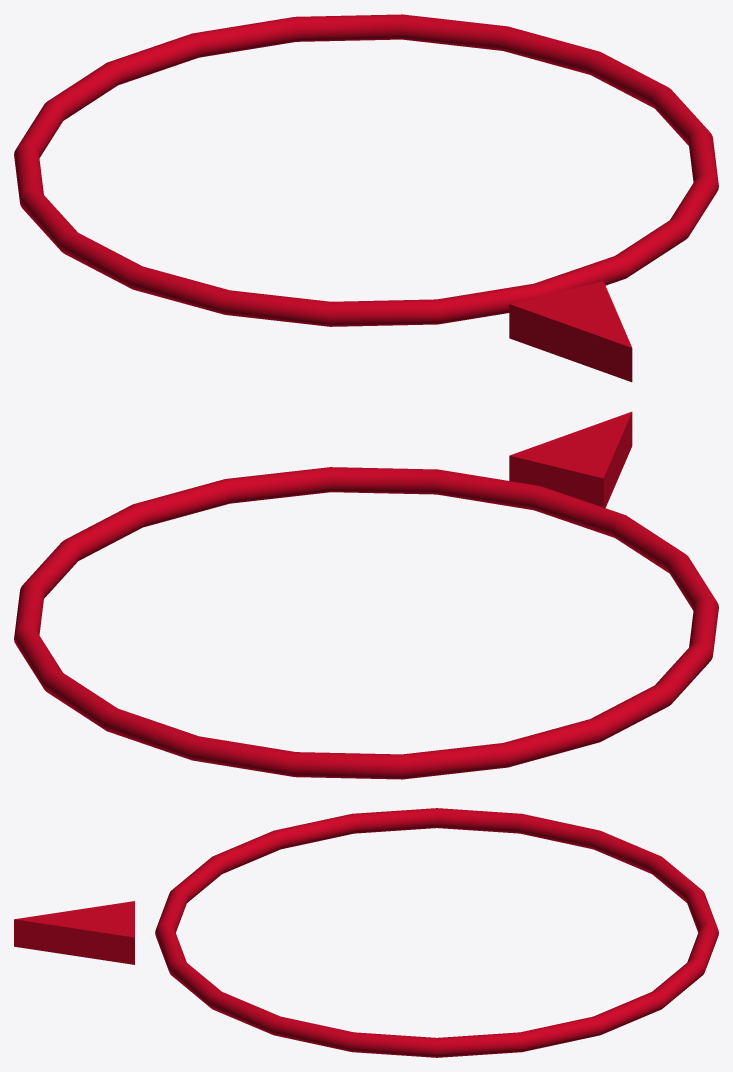
Rendered from Ring.fbx.
3 views of the same model, one above another, from view 1: azimuth 30°, elevation 25°; view 2: azimuth 150°, elevation 25°; view 3: azimuth 270°, elevation 25° (orthographic). The views are drawn at different scales.
Parts seen in each view (by area): view 1: mqo_mesh; view 2: mqo_mesh; view 3: mqo_mesh.
Boxes of the visible parts, x1,y1,x2,y2 form: mqo_mesh: [14, 14, 718, 382]; mqo_mesh: [14, 411, 718, 779]; mqo_mesh: [14, 808, 718, 1057].
Size of the model in its own units: 28 by 1.5 by 35.01.
